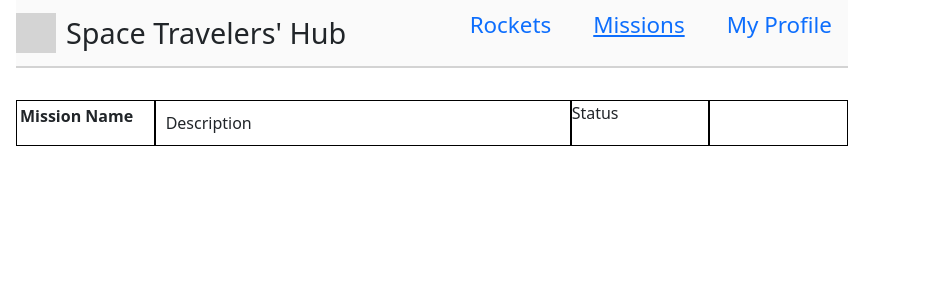
App › navigates to "Profile" and displays user bookings
Step 1. Click the link "My Profile" → [779, 24], box [727,9,832,40]
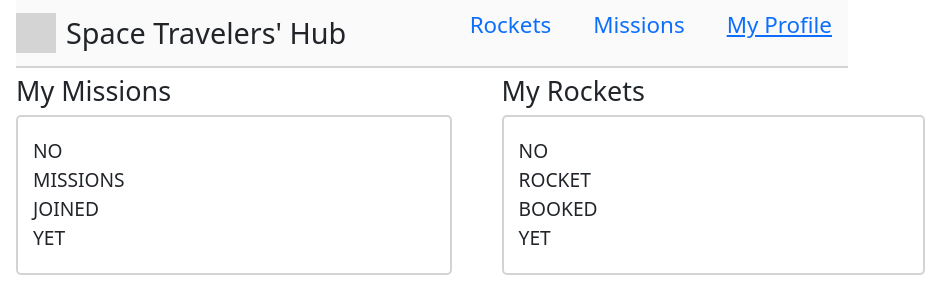
Check: the list item "NO MISSIONS JOINED YET" is shown, box [33,137,125,252]
Check: the list item "NO ROCKET BOOKED YET" is shown, box [519,137,598,252]
